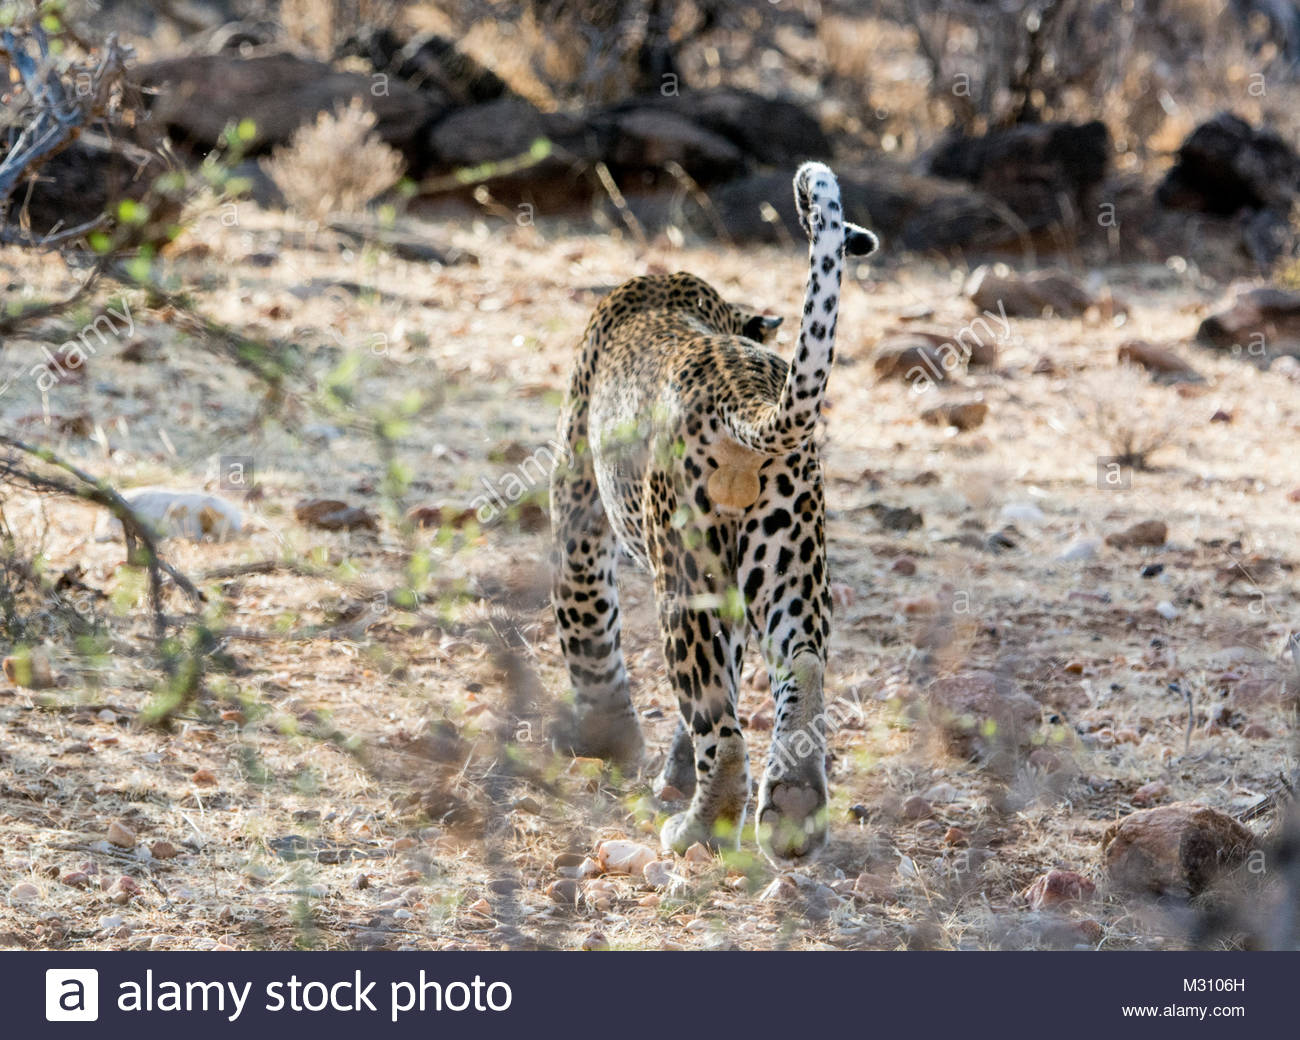leopard: (537, 152, 869, 844)
